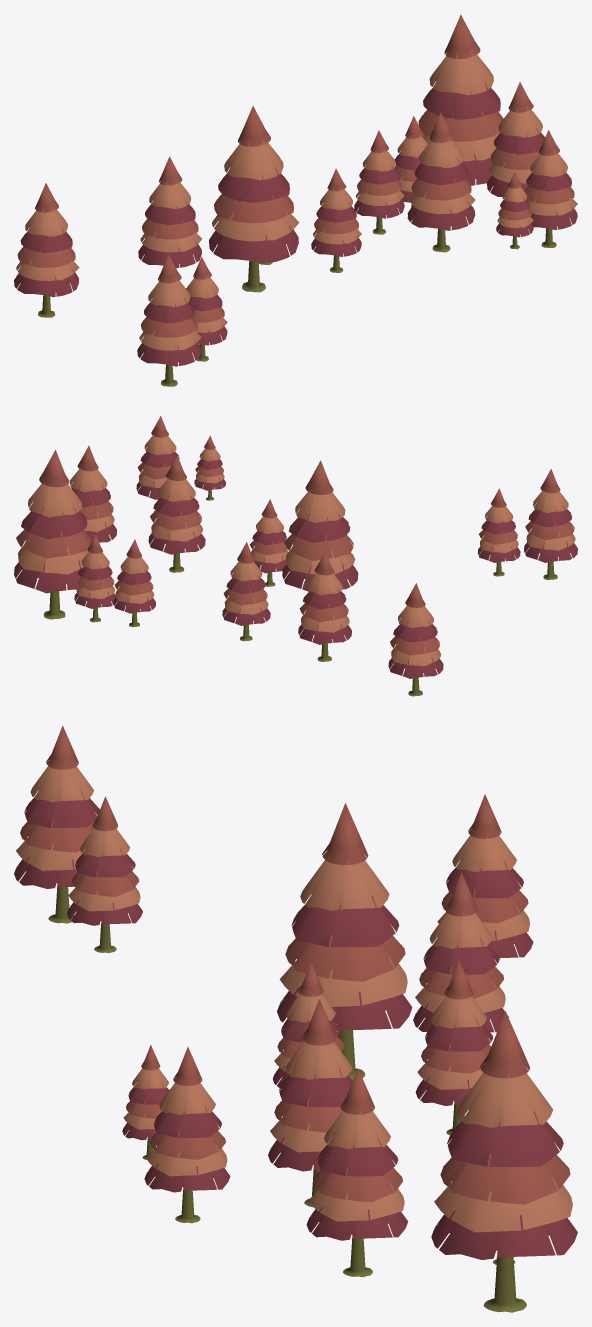
The model's file is tree_4.fbx.
3 renders of one model, top to bottom at view 1: azimuth 30°, elevation 25°; view 2: azimuth 150°, elevation 25°; view 3: azimuth 270°, elevation 25°, orthographic. The views are drawn at different scales.
Visible parts, largest first — view 1: tree_4_12, tree_4_11, tree_4_08, tree_4_02, tree_4_06, tree_4_14, tree_4_04, tree_4_10, tree_4_07, tree_4_13, tree_4_01, tree_4_05 (+1 smaller); view 2: tree_4_11, tree_4_12, tree_4_08, tree_4_02, tree_4_06, tree_4_14, tree_4_09, tree_4_04, tree_4_01, tree_4_07, tree_4_03, tree_4_10 (+2 smaller); view 3: tree_4_11, tree_4_12, tree_4_04, tree_4_06, tree_4_08, tree_4_10, tree_4_14, tree_4_02, tree_4_09, tree_4_01, tree_4_13, tree_4_05.
Boxes of the visible parts, x1=… form: tree_4_12: x1=209, y1=106, x2=299, y2=292; tree_4_11: x1=418, y1=14, x2=503, y2=208; tree_4_08: x1=407, y1=112, x2=475, y2=252; tree_4_02: x1=14, y1=183, x2=79, y2=317; tree_4_06: x1=137, y1=254, x2=201, y2=386; tree_4_14: x1=138, y1=156, x2=201, y2=268; tree_4_04: x1=487, y1=82, x2=544, y2=196; tree_4_10: x1=524, y1=130, x2=577, y2=247; tree_4_07: x1=354, y1=130, x2=404, y2=234; tree_4_13: x1=311, y1=168, x2=361, y2=272; tree_4_01: x1=186, y1=256, x2=227, y2=361; tree_4_05: x1=496, y1=172, x2=533, y2=249; tree_4_11: x1=14, y1=450, x2=90, y2=619; tree_4_12: x1=282, y1=460, x2=358, y2=591; tree_4_08: x1=148, y1=455, x2=205, y2=572; tree_4_02: x1=388, y1=583, x2=443, y2=696; tree_4_06: x1=524, y1=469, x2=577, y2=579; tree_4_14: x1=298, y1=551, x2=351, y2=661; tree_4_09: x1=222, y1=542, x2=270, y2=641; tree_4_04: x1=69, y1=445, x2=116, y2=543; tree_4_01: x1=478, y1=488, x2=520, y2=576; tree_4_07: x1=113, y1=539, x2=155, y2=627; tree_4_03: x1=74, y1=535, x2=115, y2=622; tree_4_10: x1=136, y1=416, x2=179, y2=511; tree_4_11: x1=431, y1=1011, x2=577, y2=1312; tree_4_12: x1=277, y1=803, x2=412, y2=1080; tree_4_04: x1=306, y1=1068, x2=408, y2=1277; tree_4_06: x1=14, y1=726, x2=99, y2=923; tree_4_08: x1=268, y1=999, x2=352, y2=1207; tree_4_10: x1=144, y1=1047, x2=230, y2=1223; tree_4_14: x1=413, y1=872, x2=508, y2=1032; tree_4_02: x1=437, y1=794, x2=533, y2=958; tree_4_09: x1=415, y1=960, x2=493, y2=1135; tree_4_01: x1=67, y1=796, x2=142, y2=952; tree_4_13: x1=273, y1=962, x2=344, y2=1087; tree_4_05: x1=122, y1=1044, x2=169, y2=1159.
Bounding box in the file's own units: 100 × 39.22 × 64.12.
